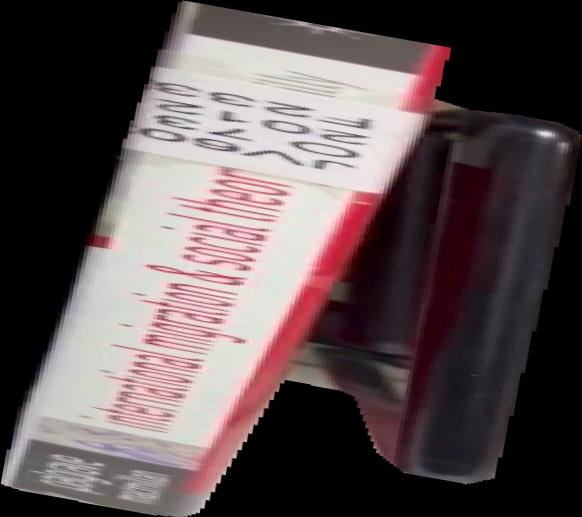reverse: (1, 1, 582, 517)
